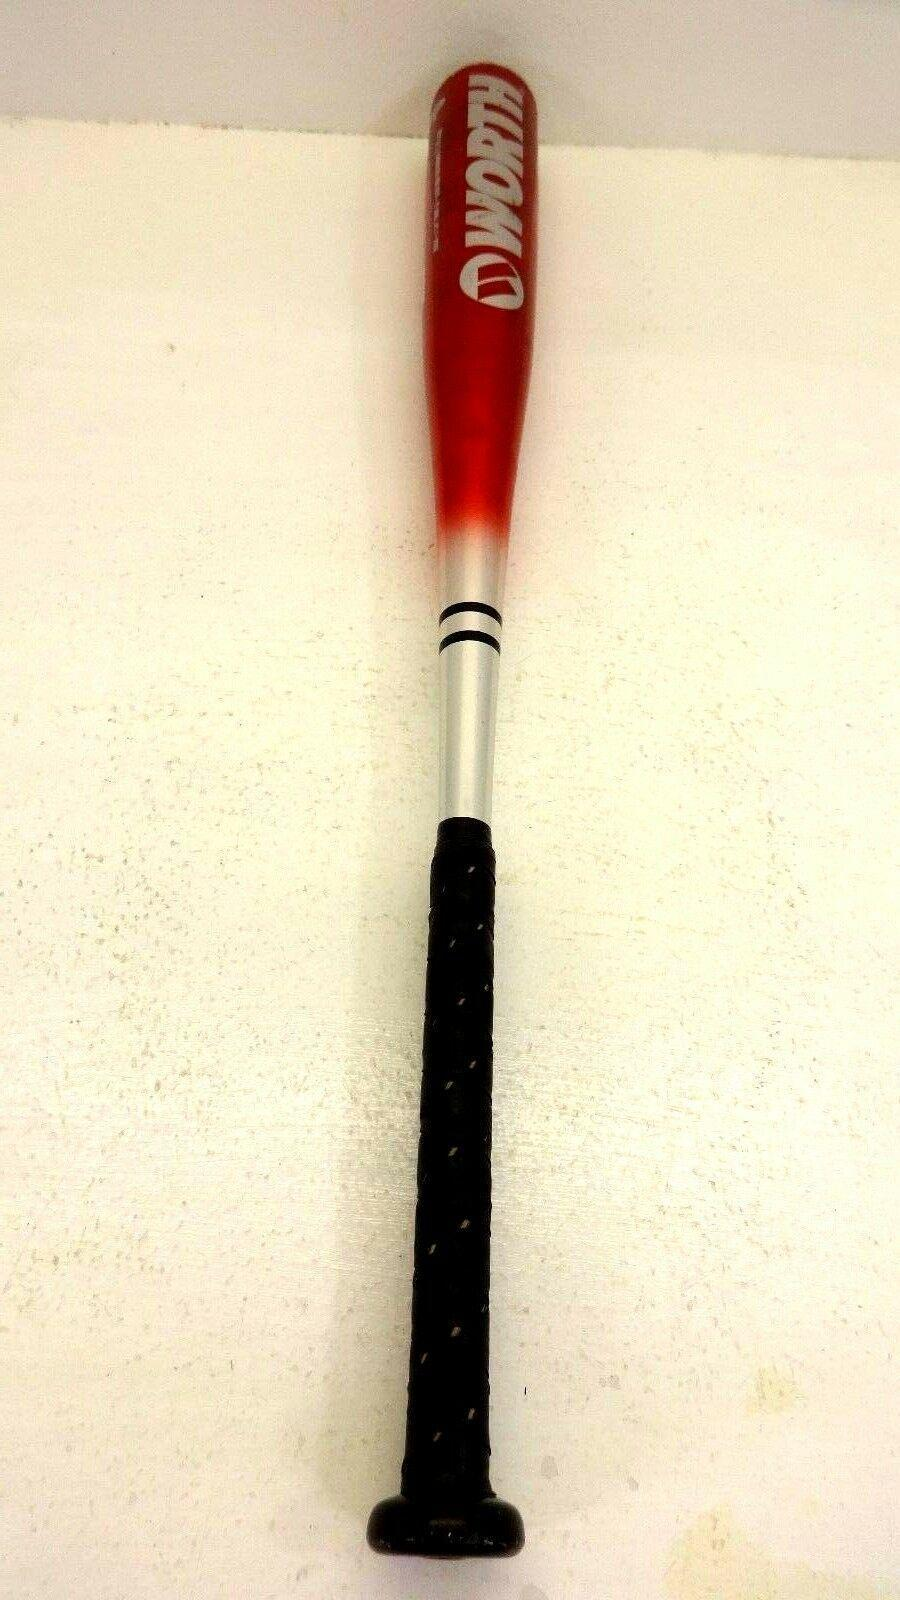Baseball-Bat: (323, 54, 613, 1597)
